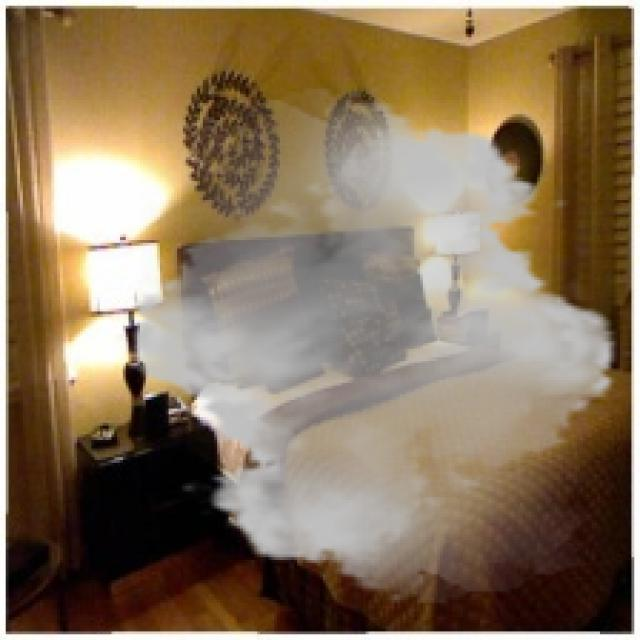Smoke: (112, 88, 638, 603)
